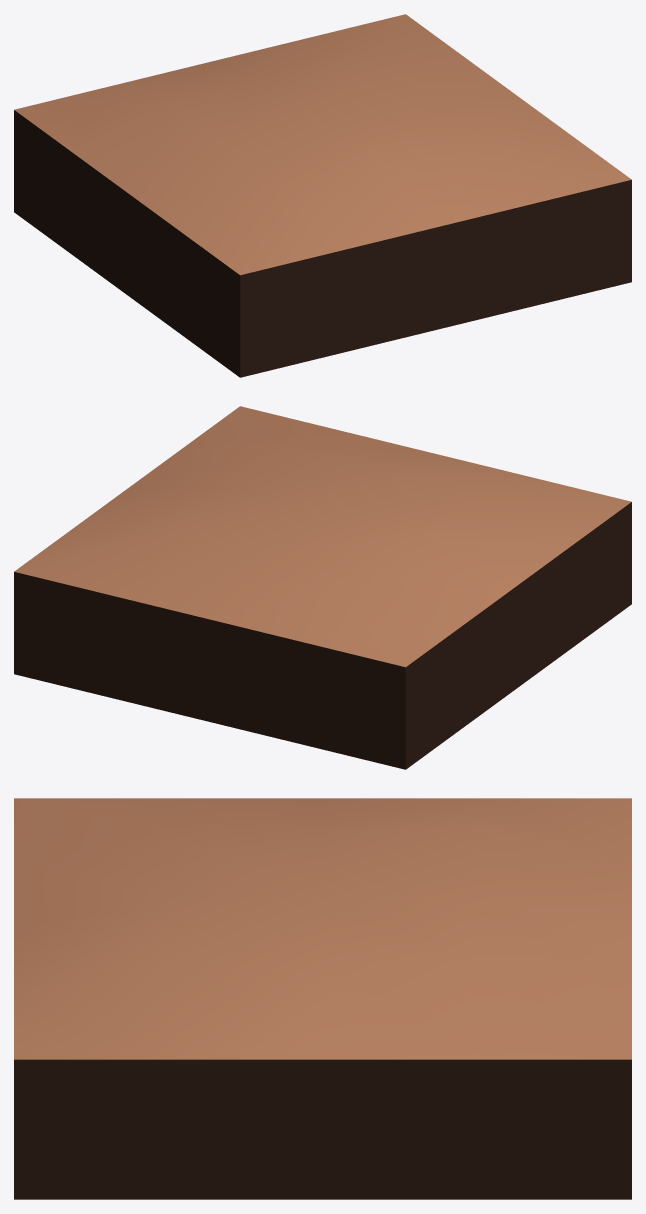
The model's file is uniformedTile-23_col.fbx.
3 views of the same model, one above another, from view 1: azimuth 30°, elevation 25°; view 2: azimuth 150°, elevation 25°; view 3: azimuth 270°, elevation 25° (orthographic). The views are drawn at different scales.
Parts seen in each view (by area): view 1: uniformedTile-23.col; view 2: uniformedTile-23.col; view 3: uniformedTile-23.col.
Boxes of the visible parts, bbox=[...] form: uniformedTile-23.col: bbox=[14, 14, 631, 377]; uniformedTile-23.col: bbox=[14, 406, 631, 769]; uniformedTile-23.col: bbox=[14, 798, 631, 1199].
Bounding box in the file's own units: 2 × 0.6163 × 2.
Materials: 1 (1 with a texture image).
